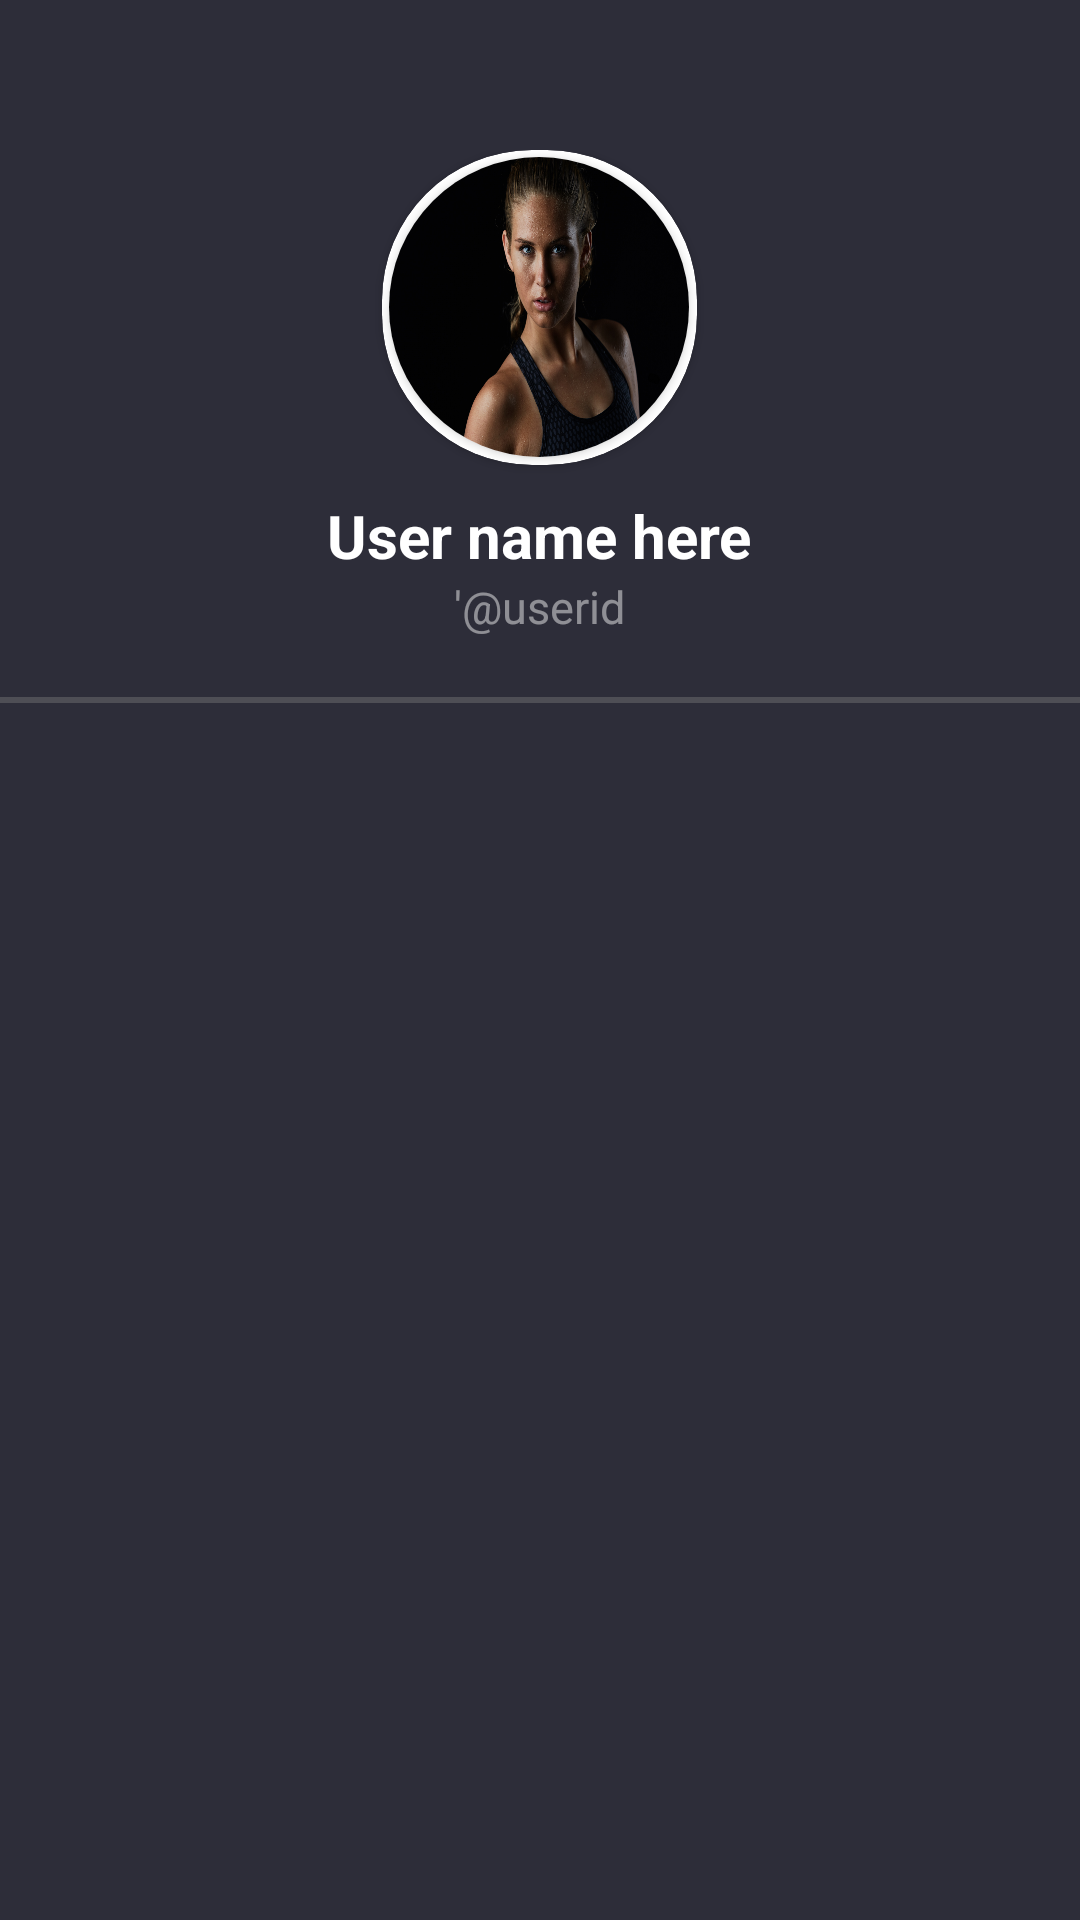

Locate icon controls on the screen. Image size 1080w x 1920h, boxes as (x1, y1, x2, y2).
personal trainer: (389, 157, 689, 457)
